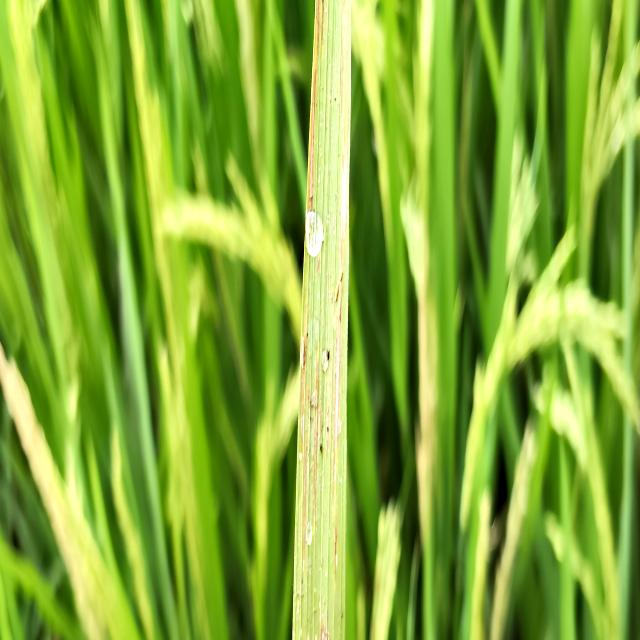NBS: (332, 322, 340, 497), (308, 65, 316, 212), (340, 141, 348, 269), (313, 355, 319, 515), (340, 0, 346, 118), (303, 437, 308, 562), (317, 0, 320, 57), (334, 525, 337, 573), (321, 0, 324, 45)
